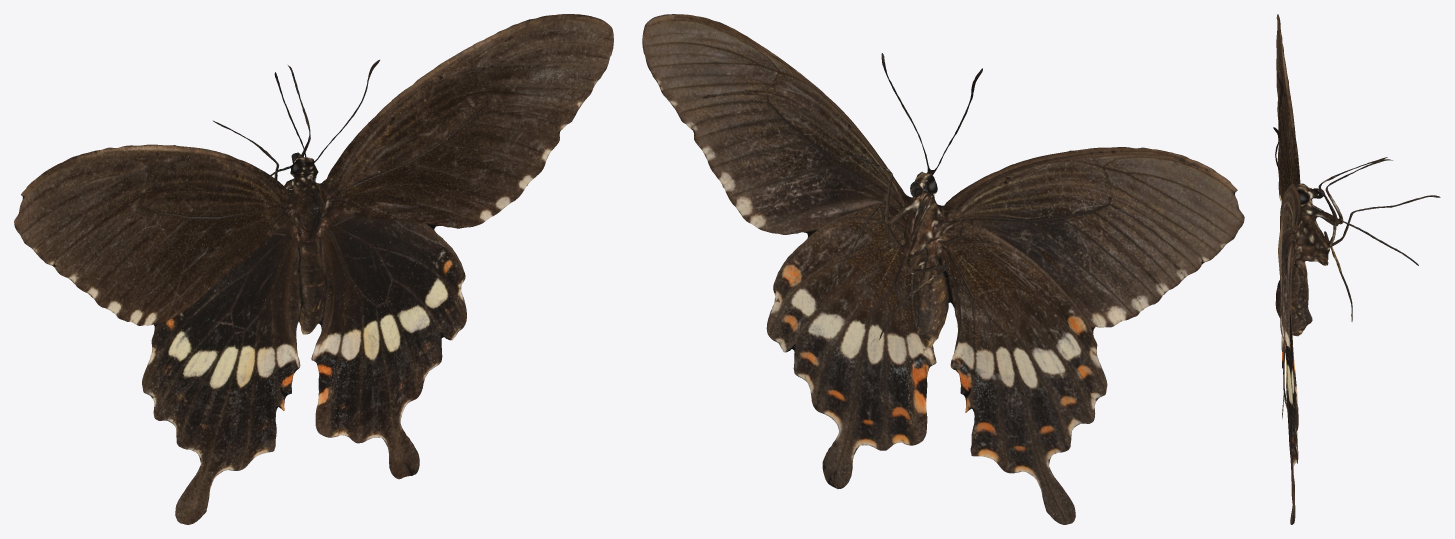
The model's file is papilio_polytes.glb.
3 renders of one model, left to right at view 1: azimuth 30°, elevation 25°; view 2: azimuth 150°, elevation 25°; view 3: azimuth 270°, elevation 25°, orthographic. The views are drawn at different scales.
Parts seen in each view (by area): view 1: Q12223-1-1_1; view 2: Q12223-1-1_1; view 3: Q12223-1-1_1.
Boxes of the visible parts, box(x1,y1,x2,y2) form: Q12223-1-1_1: box(14, 14, 613, 524); Q12223-1-1_1: box(642, 14, 1244, 524); Q12223-1-1_1: box(1273, 14, 1440, 524).
Size of the model in its own units: 0.0826 by 0.0588 by 0.0228.
1 material, 1 textured.
